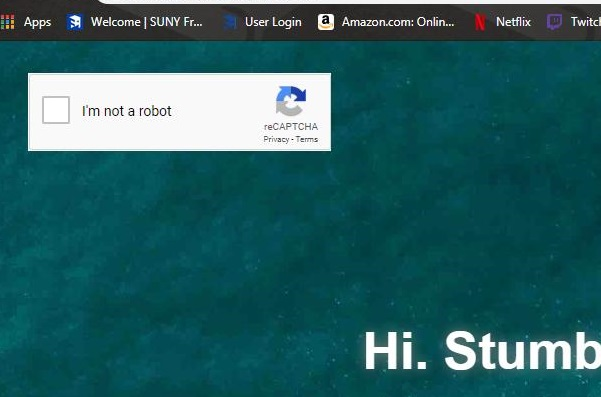captcha: (42, 95, 174, 124)
